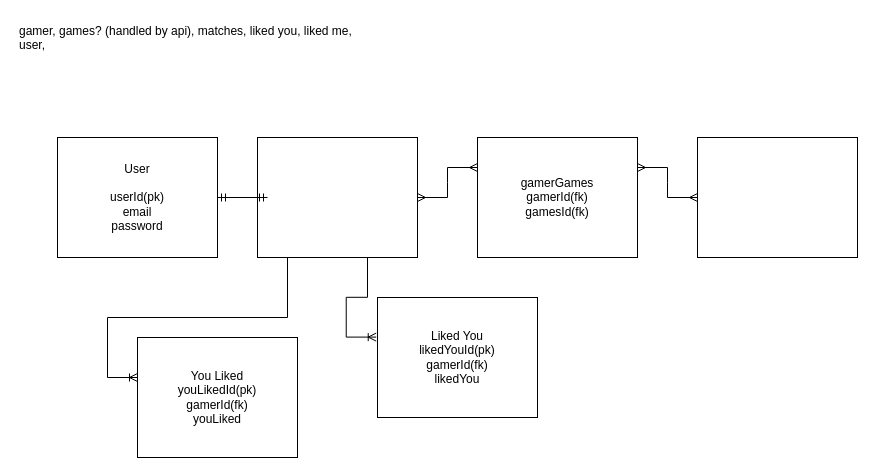
The diagram is 875 pixels wide and 475 high, and some of its shapes have lost their labels. The centre of each missing label's shape, as x and y in pixels:
Gamer gamerId(pk) userId(fk) firstName lastName gamerTag birthDate genres: point 337,197
Games gamesId(pk) games: point 777,197
